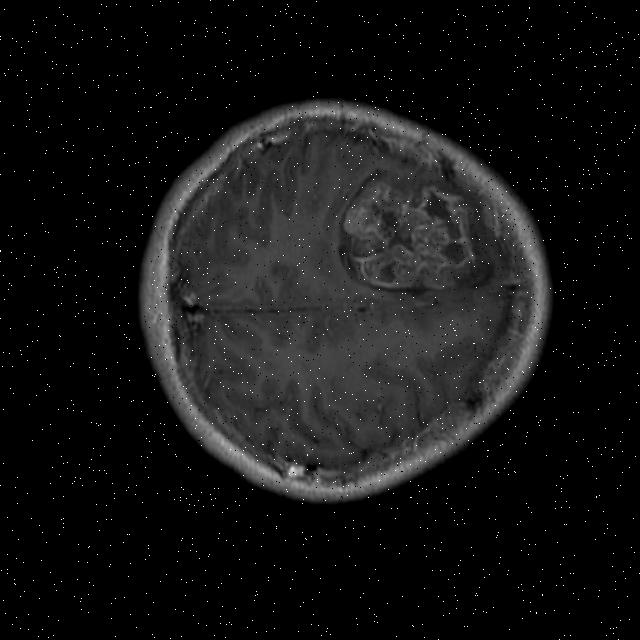Glioma: (333, 173, 491, 298)
